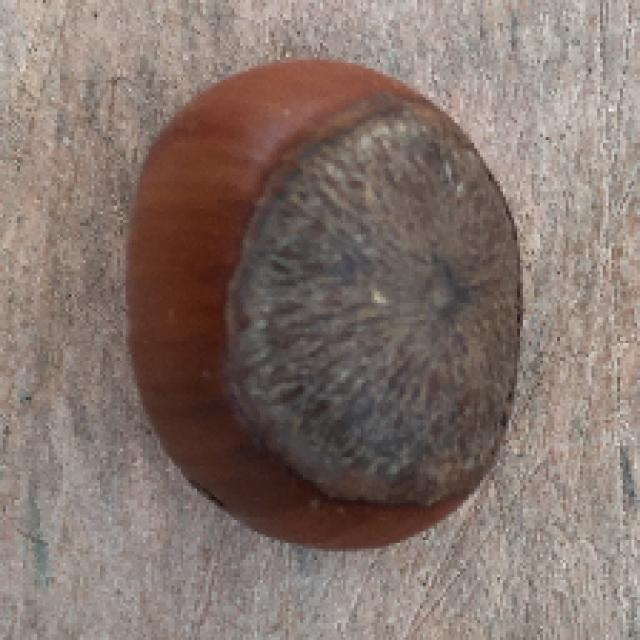damagedHazelnut: (119, 49, 528, 559)
